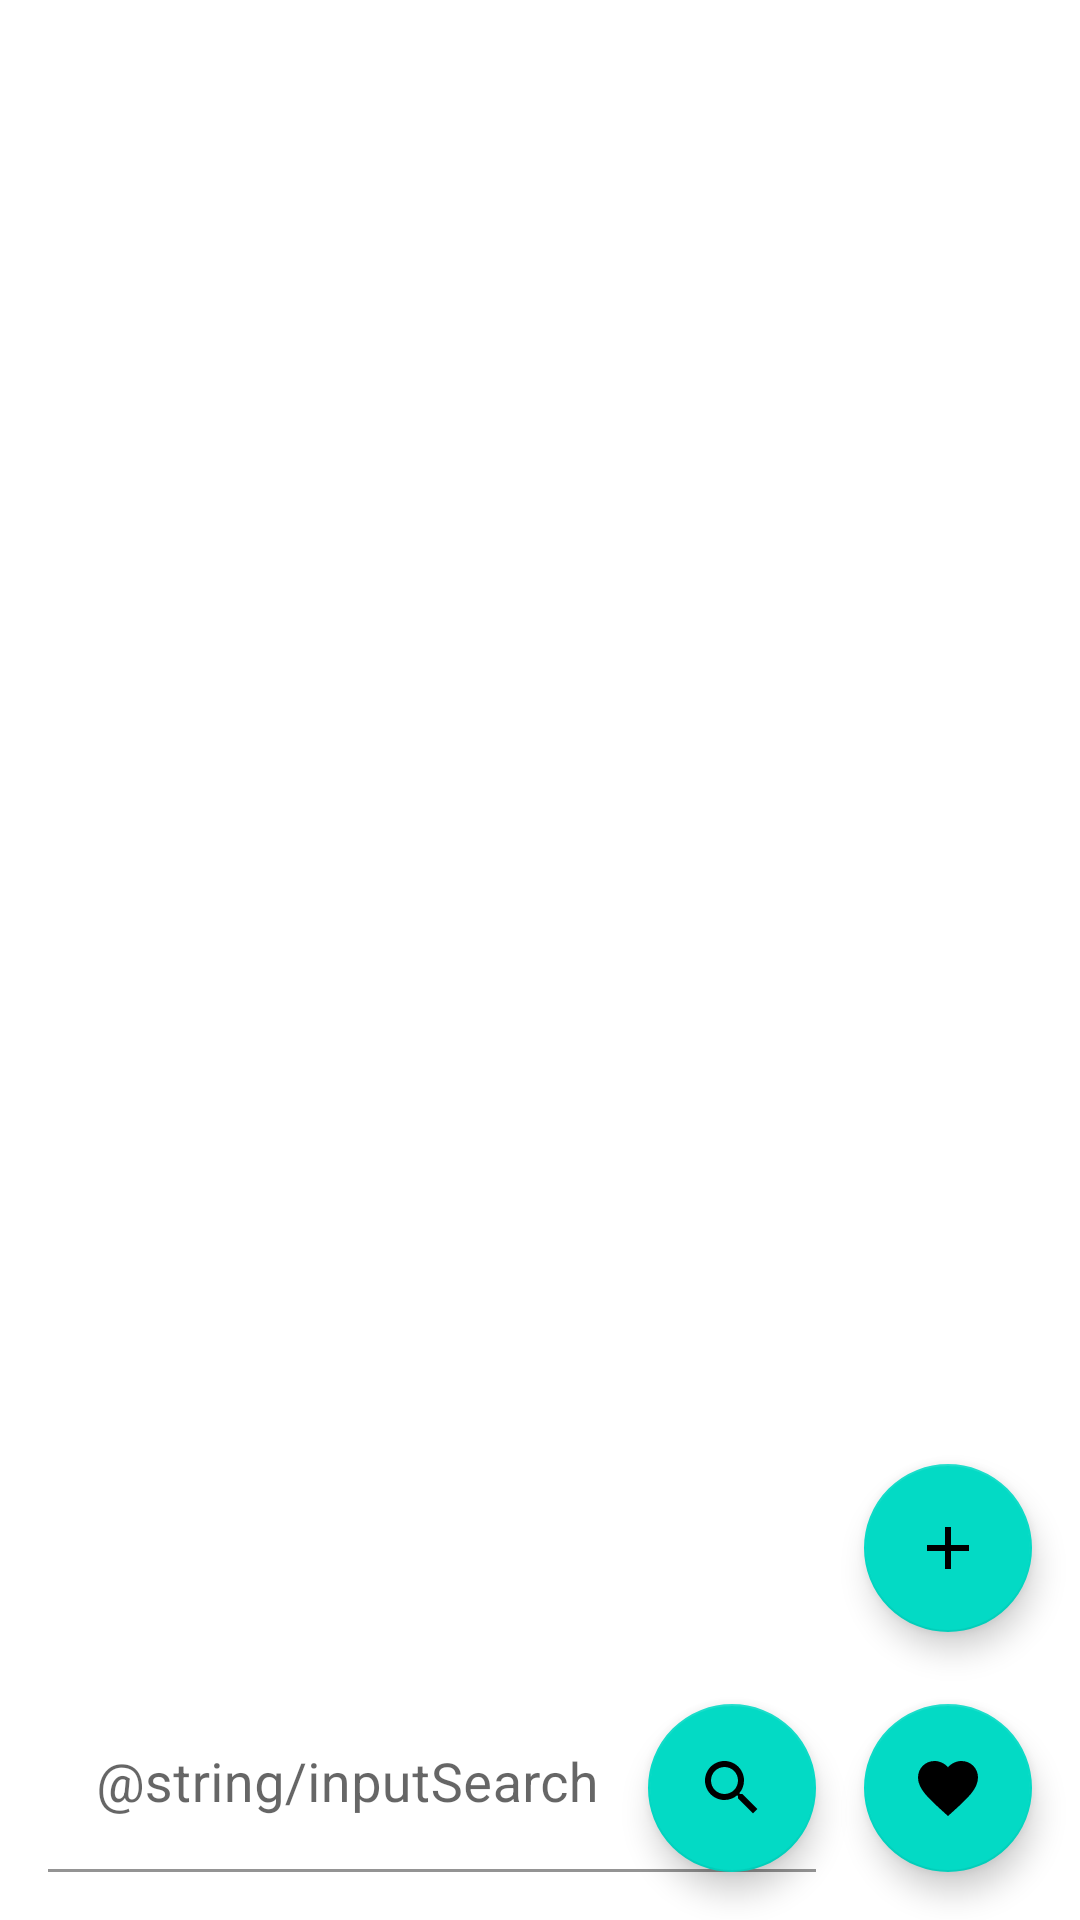

Icon bounding boxes for this 1080px×1920px phone screenshot, format bbox=(x1, y1, x2, y2):
add: bbox=(864, 1464, 1032, 1632)
favorite list: bbox=(864, 1704, 1032, 1872)
search: bbox=(648, 1704, 816, 1872)
